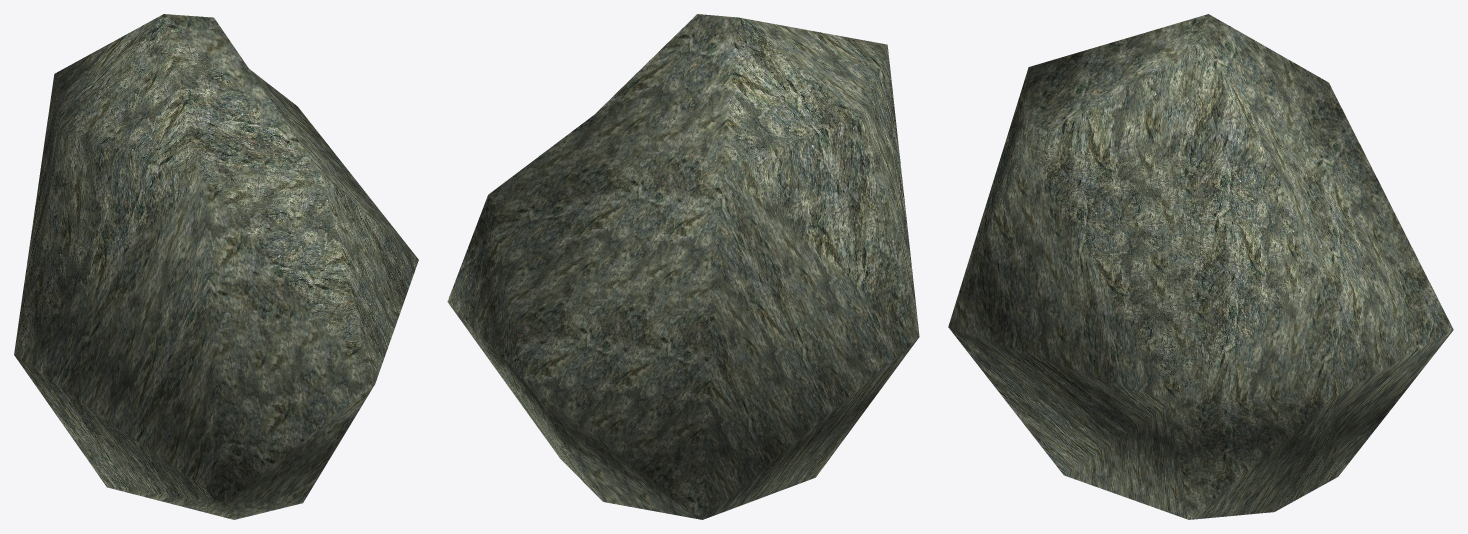
Rendered from mtns_rock_grey_a5_l2.fbx.
The picture shows the model from 3 angles, left to right: view 1: azimuth 30°, elevation 25°; view 2: azimuth 150°, elevation 25°; view 3: azimuth 270°, elevation 25°; orthographic projection. The views are drawn at different scales.
Parts seen in each view (by area): view 1: mesh_node; view 2: mesh_node; view 3: mesh_node.
Boxes of the visible parts, left/top/right/bottom form: mesh_node: left=14, top=14, right=418, bottom=519; mesh_node: left=447, top=14, right=919, bottom=519; mesh_node: left=948, top=14, right=1453, bottom=519.
Bounding box in the file's own units: 1.66 × 1.79 × 1.89.
Materials: 1 (1 with a texture image).
